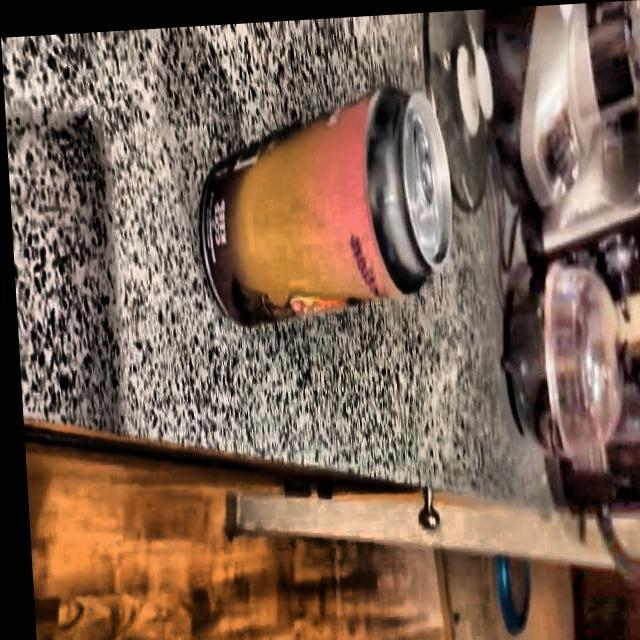Aluminum Can: (178, 73, 463, 332)
